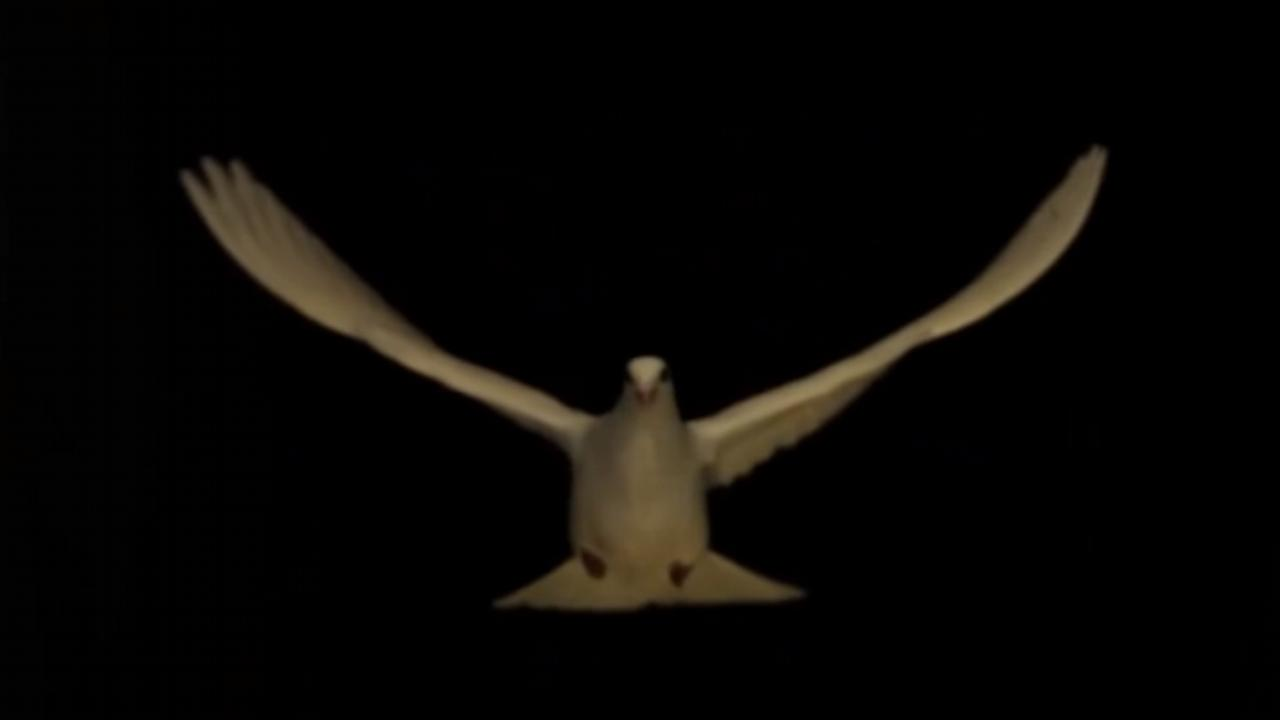Bird: (156, 142, 1146, 628)
